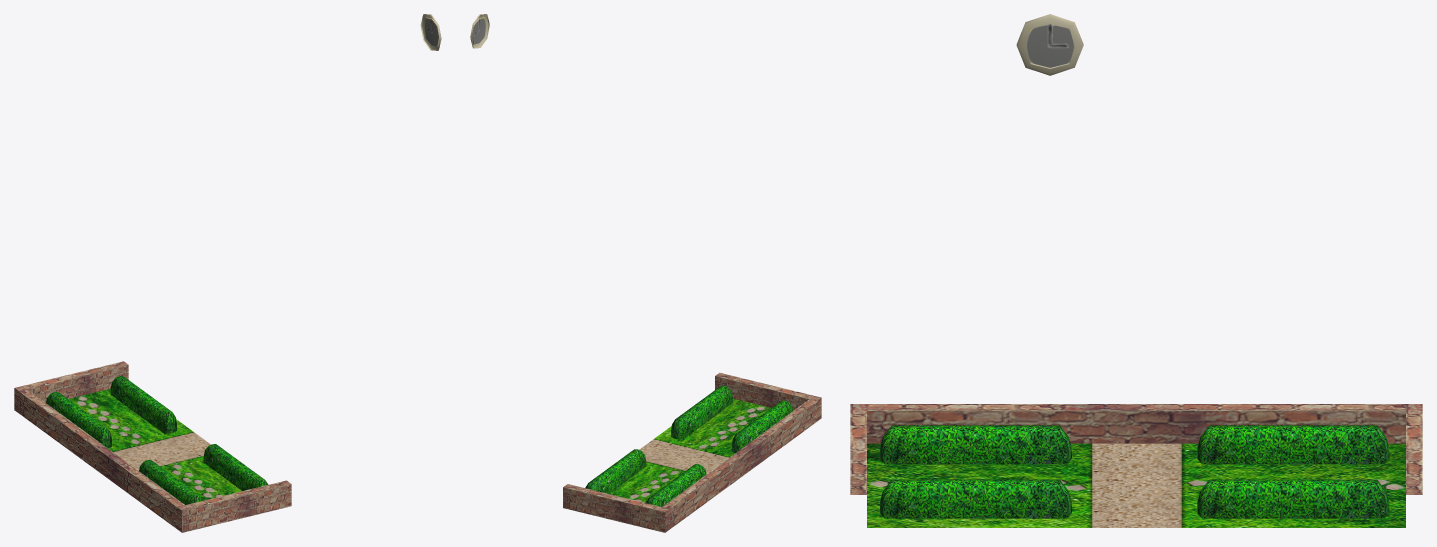
The model's file is church_g.fbx.
3 renders of one model, left to right at view 1: azimuth 30°, elevation 25°; view 2: azimuth 150°, elevation 25°; view 3: azimuth 270°, elevation 25°, orthographic. The views are drawn at different scales.
Visible parts, largest first — view 1: polySurface45; view 2: polySurface45; view 3: polySurface45.
Part boxes in pixels (x1=…): polySurface45: x1=14, y1=14, x2=441, y2=532; polySurface45: x1=470, y1=14, x2=821, y2=532; polySurface45: x1=850, y1=14, x2=1422, y2=527.
Size of the model in its own units: 458 by 566 by 430.
